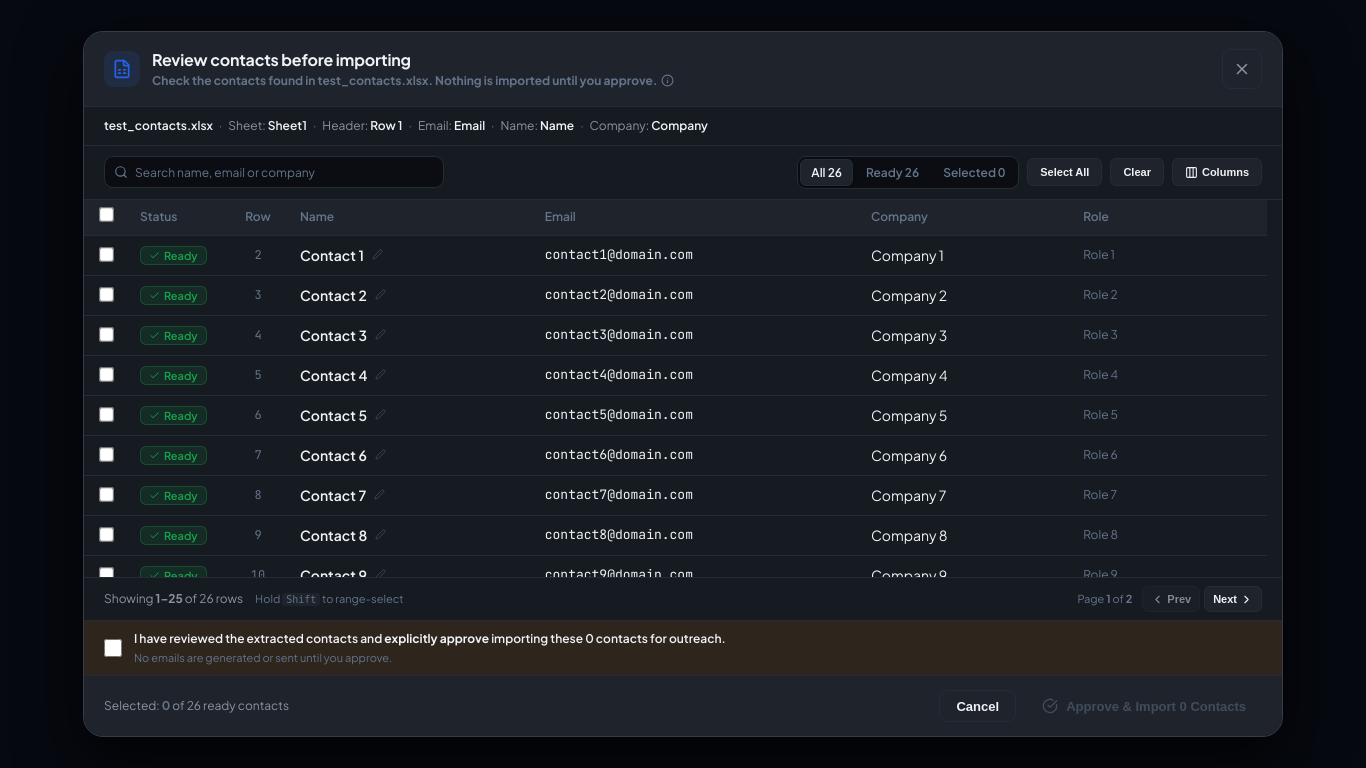
it: RecipientModal Empirical Pagination & Selection Stress Suite › handles 26 rows: precisely splits into 2 pages (25 on page 1, 1 on page 2)
The width and height of the screenshot is (1366, 768).
expect the text "contact1@domain.com" is shown: met, box [545,246,693,265]
expect the text "contact26@domain.com" is not shown: met
Note: Advance to Page 2
Click the button with aria-label "Next Page": click(1233, 599) [1204,586,1262,612]
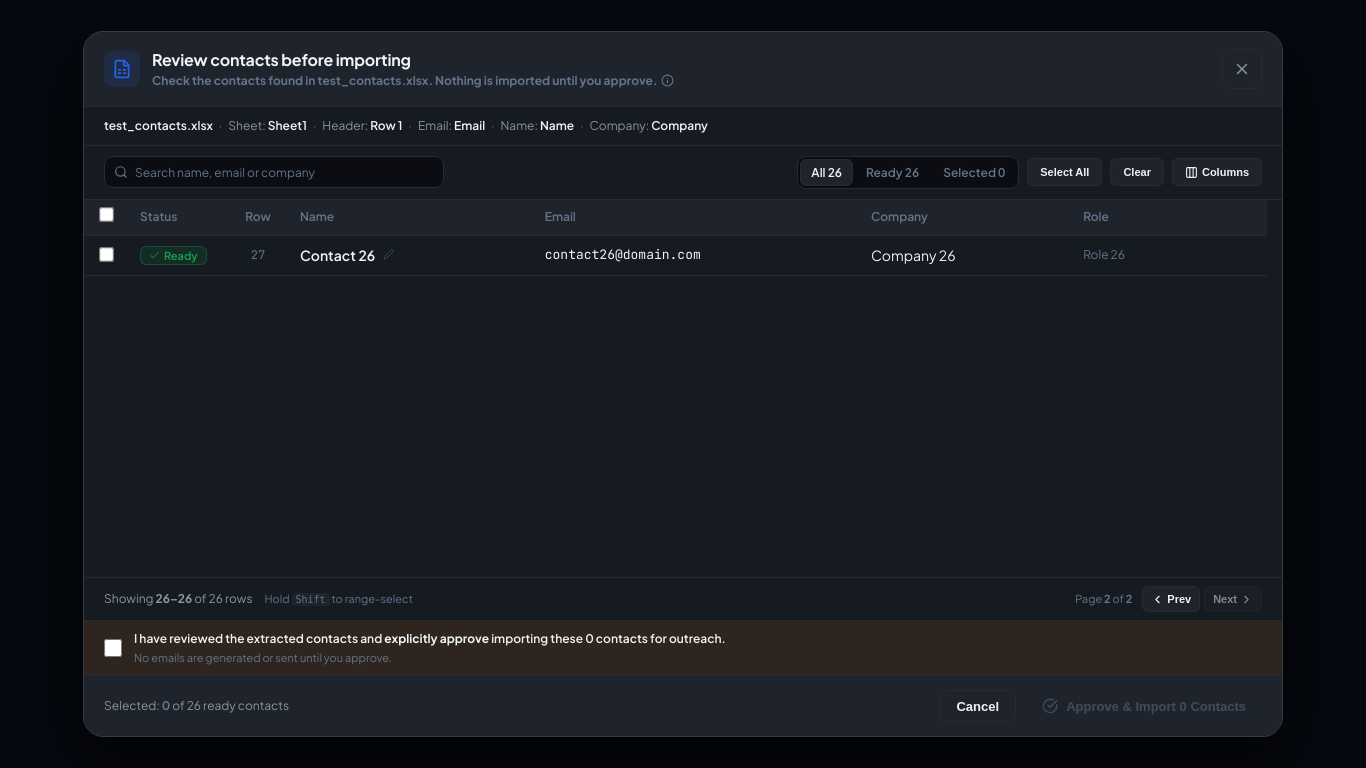
expect the text "contact1@domain.com" is gone: met
expect the text "contact26@domain.com" is shown: met, box [545,246,701,265]
expect the text "26–26" is shown: met, box [156,591,192,606]
Note: Retreat to Page 1
Click the button with aria-label "Previous Page": click(1171, 599) [1142,586,1200,612]
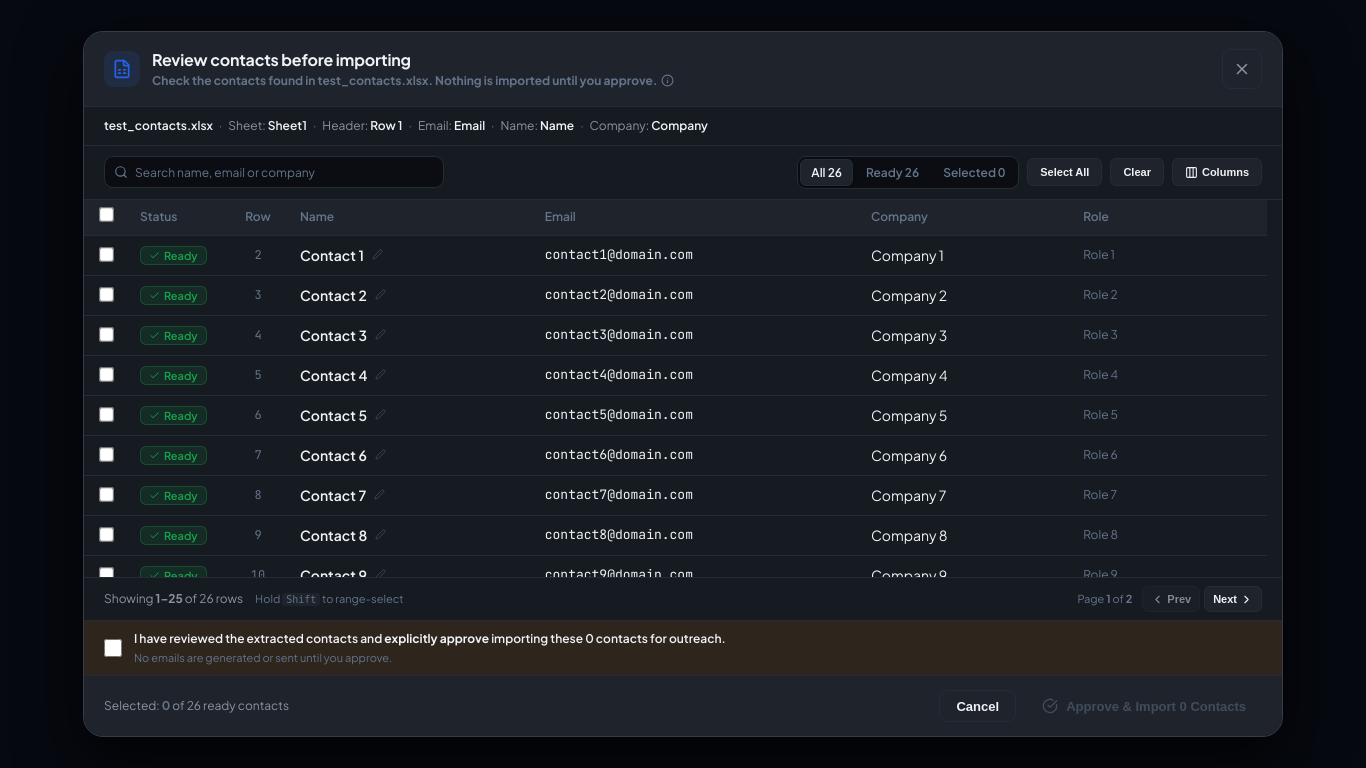
expect the text "contact1@domain.com" is shown: met, box [545,246,693,265]
expect the text "contact26@domain.com" is gone: met
expect the text "1–25" is shown: met, box [156,591,183,606]
